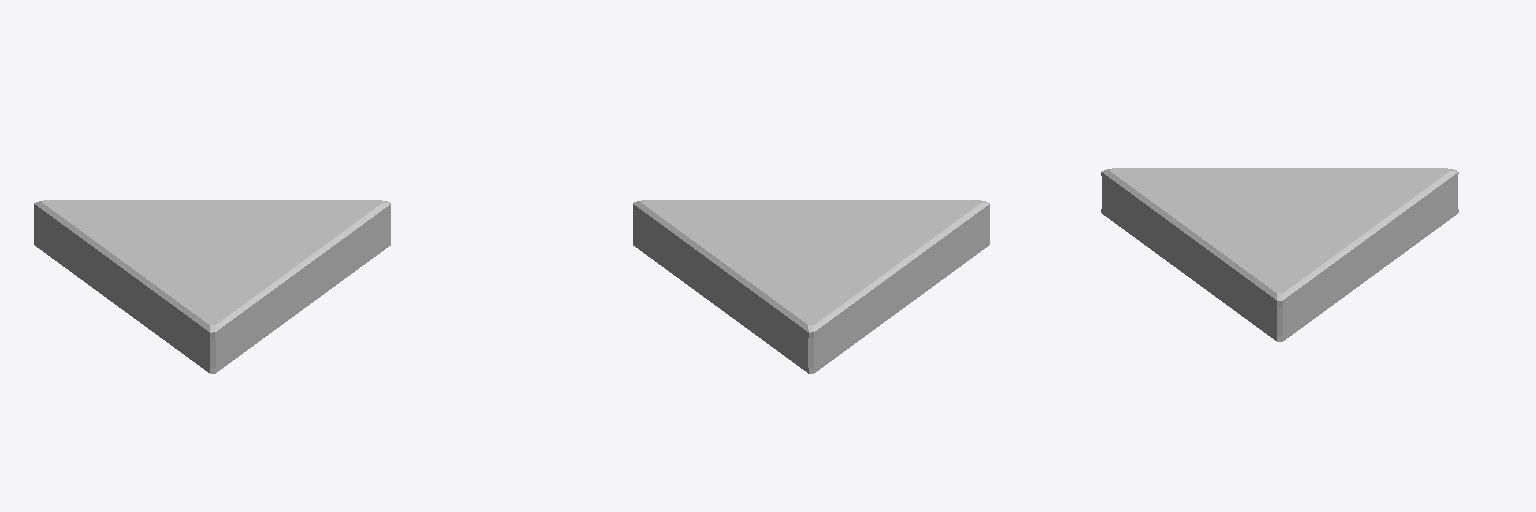
The model's file is Glass_Triangle.obj.
3 views of the same model, side by side, from view 1: azimuth 30°, elevation 25°; view 2: azimuth 150°, elevation 25°; view 3: azimuth 270°, elevation 25° (orthographic).
Visible parts, largest first — view 1: pPrism1; view 2: pPrism1; view 3: pPrism1.
Boxes of the visible parts, box(x1,y1,x2,y2) form: pPrism1: box(34, 200, 390, 373); pPrism1: box(633, 200, 989, 373); pPrism1: box(1101, 168, 1458, 341).
Size of the model in its own units: 7.82 by 1.34 by 9.02.